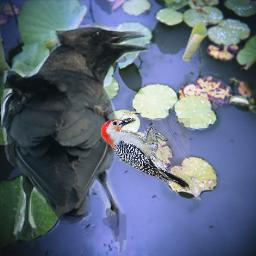Crow: (1, 19, 150, 256)
Woodpecker: (101, 118, 190, 191)
